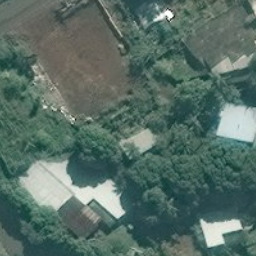buildings: (20, 152, 130, 229), (182, 4, 256, 80), (185, 205, 248, 250), (209, 103, 254, 147), (116, 121, 160, 160), (133, 1, 172, 31), (71, 207, 102, 238)
